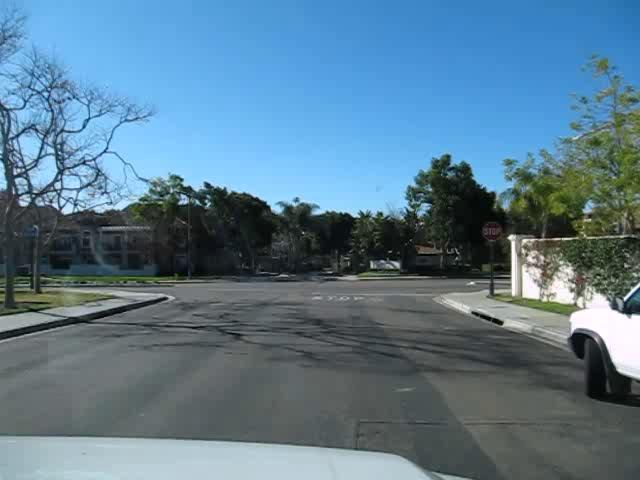stop: (482, 220, 503, 241)
